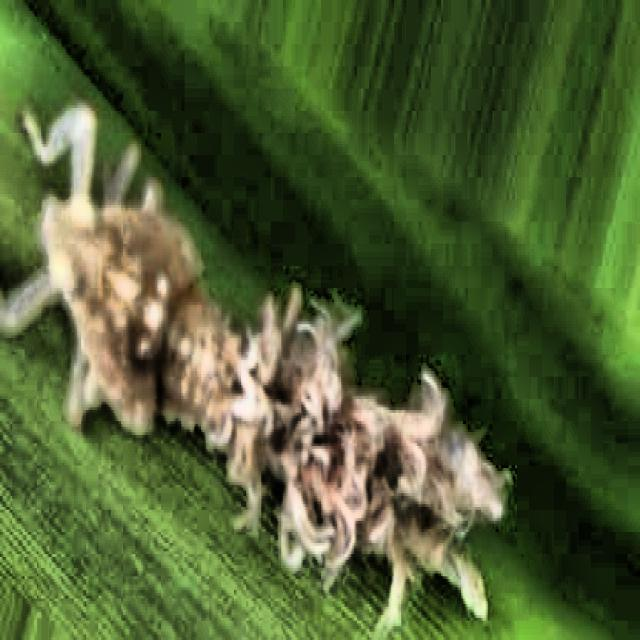Pyrilla-perpusilla: (4, 116, 530, 638)
